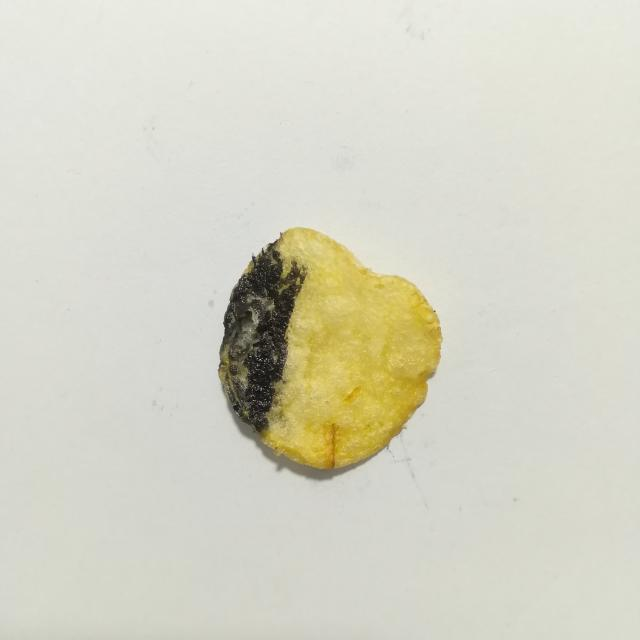chip: (219, 228, 442, 468)
damaged: (220, 240, 307, 431)
semi-damaged: (266, 296, 297, 431)
